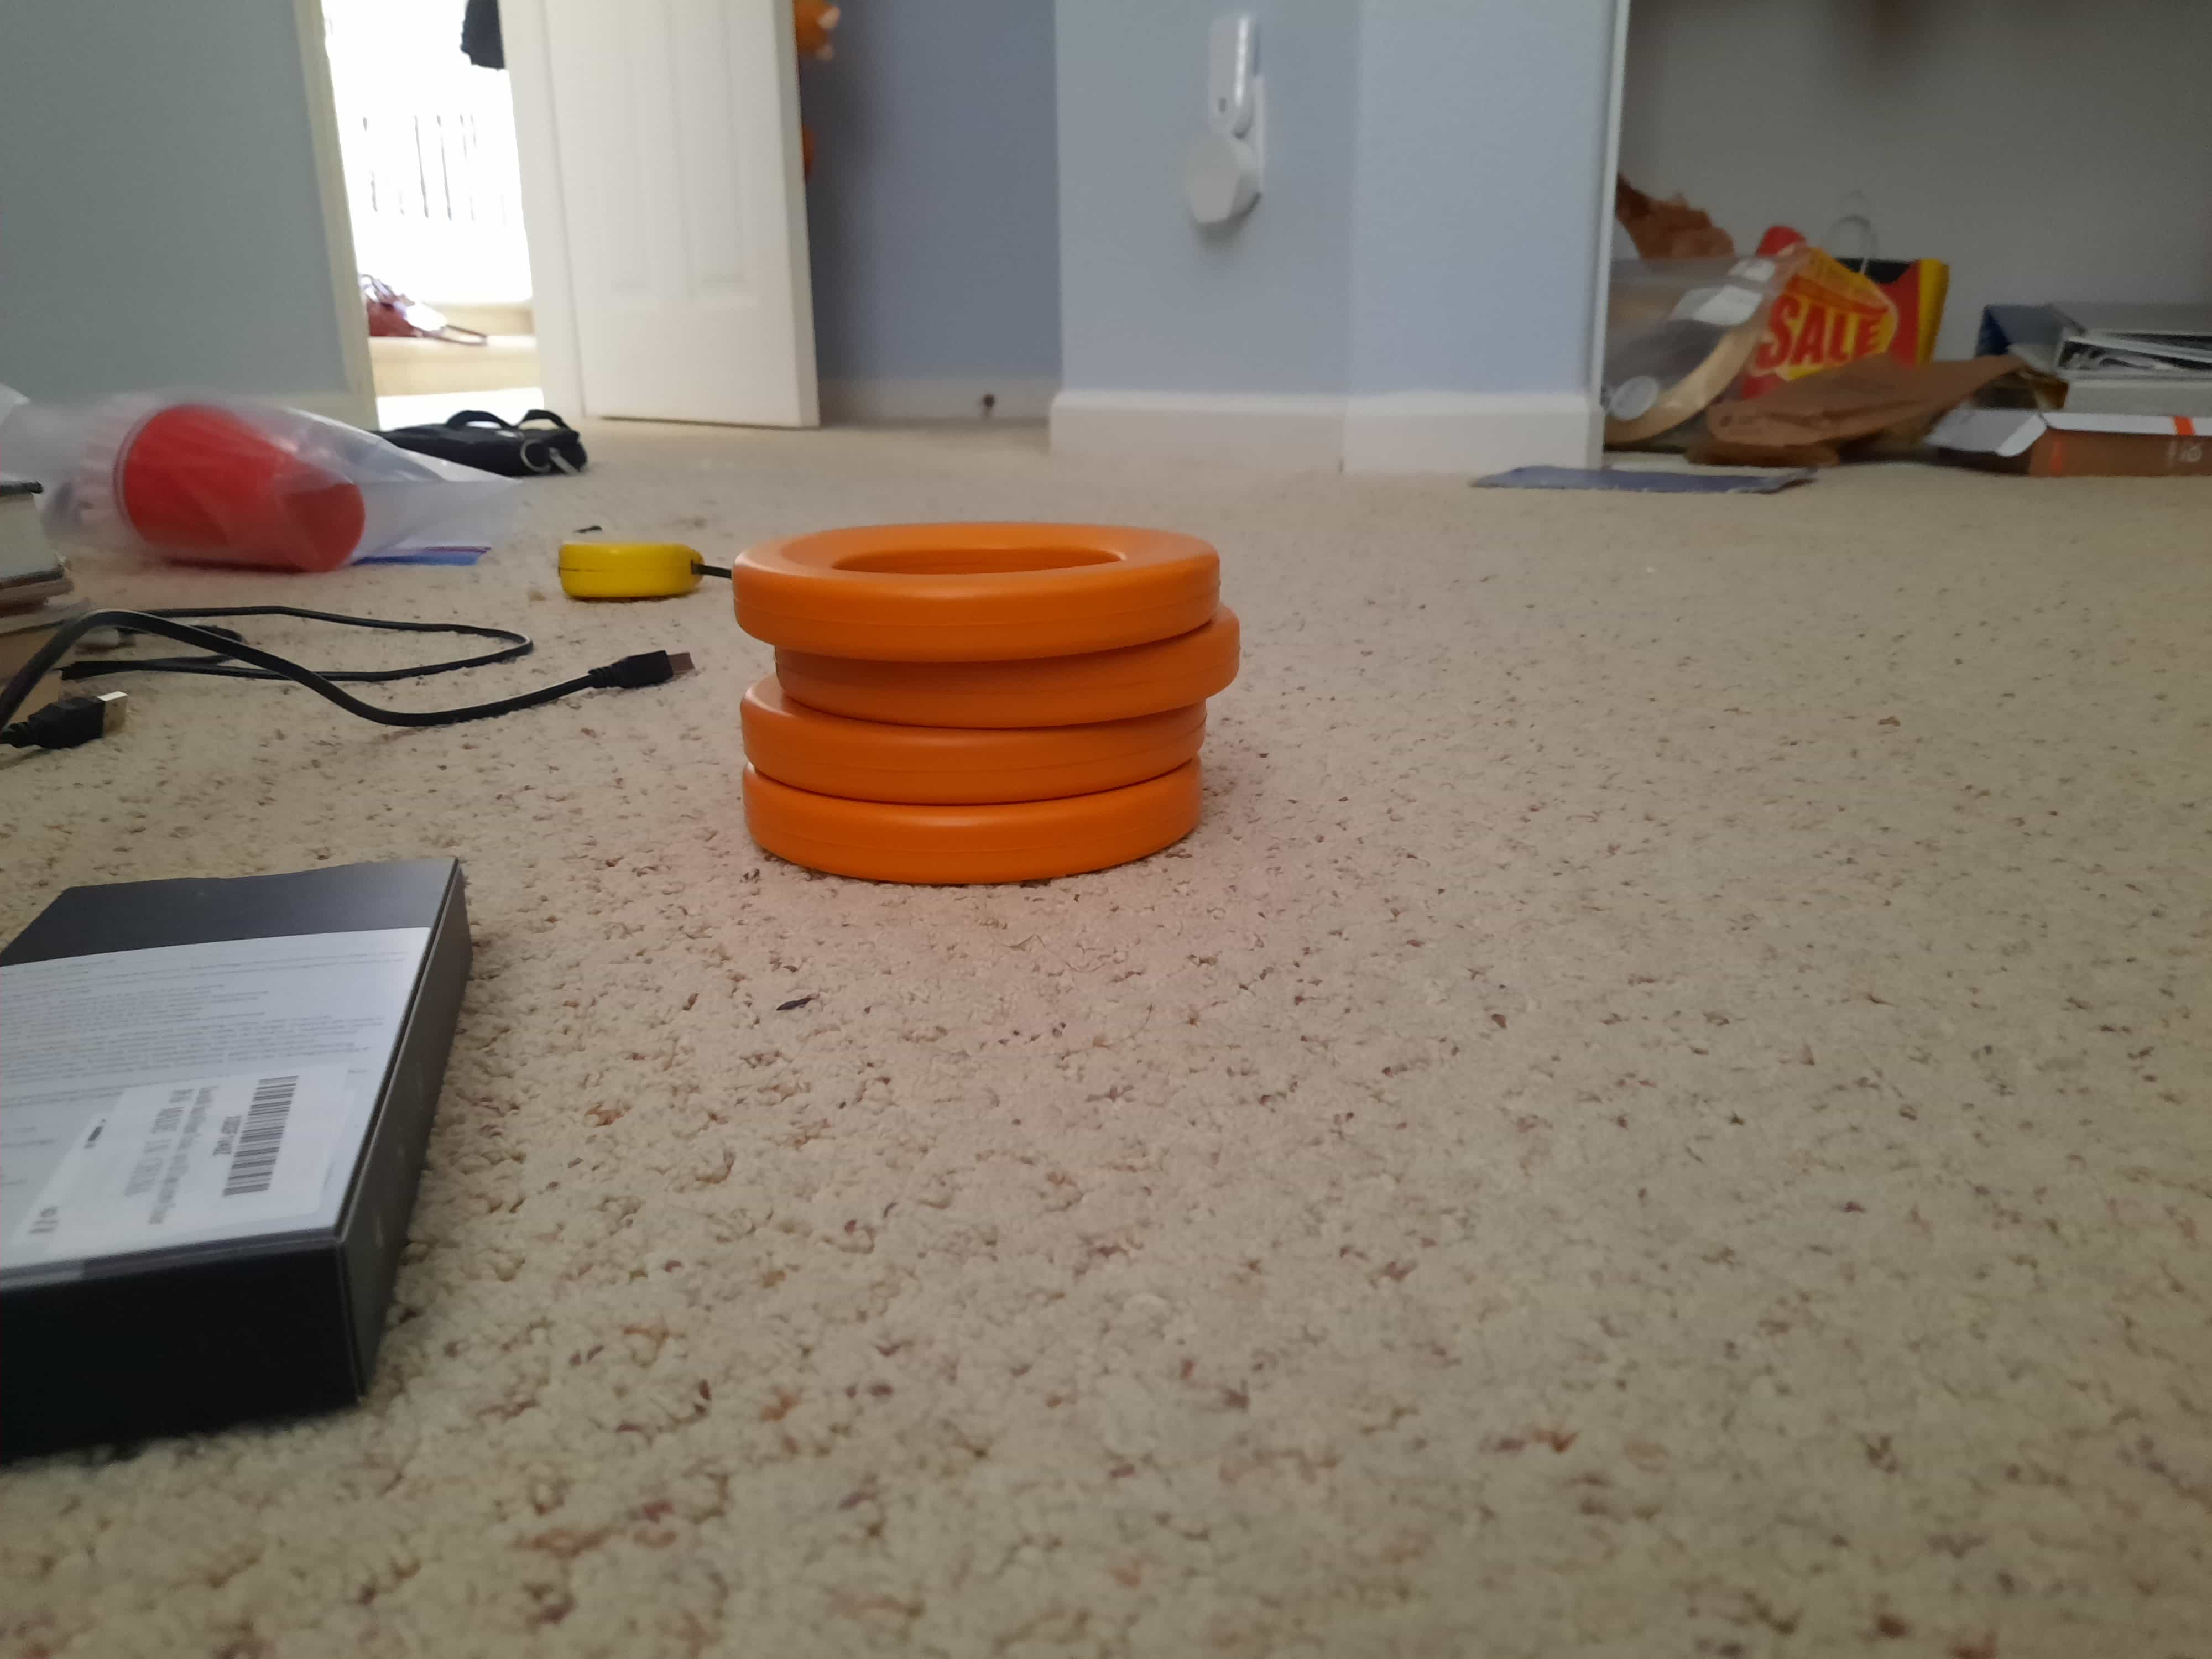FourStack: (732, 518, 1224, 882)
